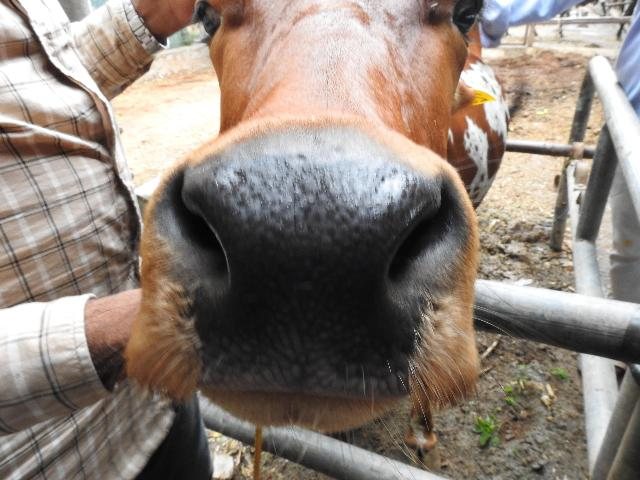Muzzle: (193, 163, 407, 391)
